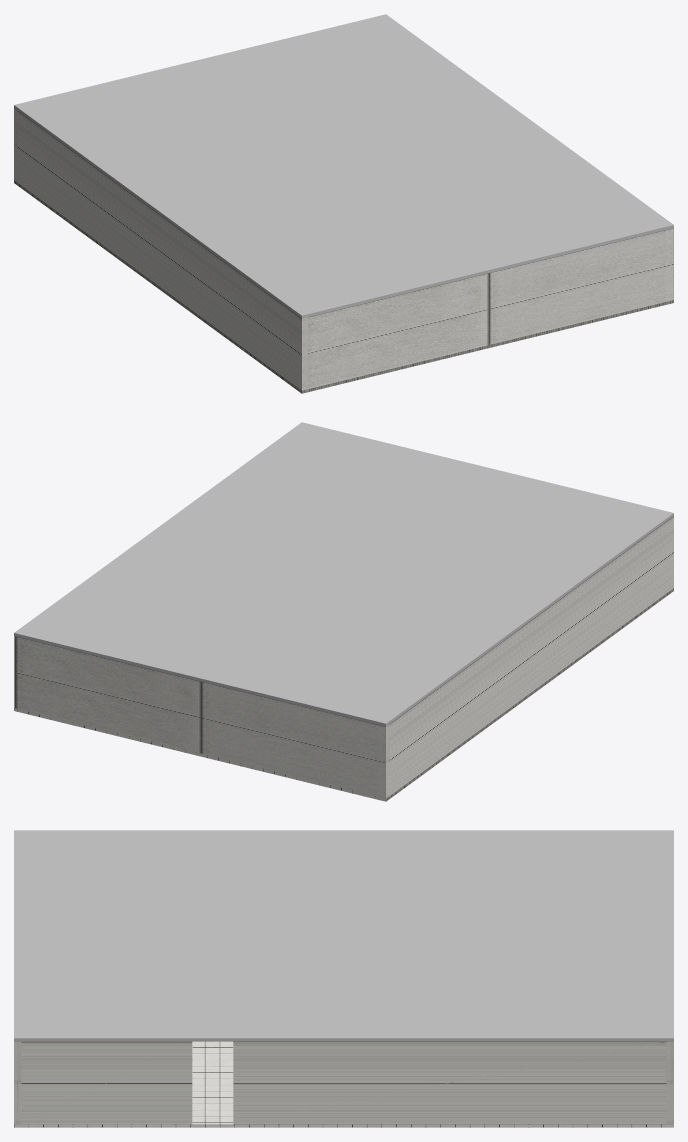
The model's file is NEW MAP 1.fbx.
The picture shows the model from 3 angles, top to bottom: view 1: azimuth 30°, elevation 25°; view 2: azimuth 150°, elevation 25°; view 3: azimuth 270°, elevation 25°; orthographic projection. The views are drawn at different scales.
Parts seen in each view (by area): view 1: C, Cube.017, F; view 2: C, Cube.017, F; view 3: C, Cube.017, F.
Boxes of the visible parts, x1=… form: C: x1=14, y1=14, x2=673, y2=318; Cube.017: x1=14, y1=108, x2=673, y2=390; F: x1=14, y1=180, x2=673, y2=393; C: x1=14, y1=422, x2=673, y2=726; Cube.017: x1=14, y1=516, x2=673, y2=798; F: x1=14, y1=588, x2=673, y2=801; C: x1=14, y1=830, x2=673, y2=1041; Cube.017: x1=14, y1=1041, x2=673, y2=1124; F: x1=14, y1=1041, x2=673, y2=1127.
Bounding box in the file's own units: 1297 × 1738 × 260.
